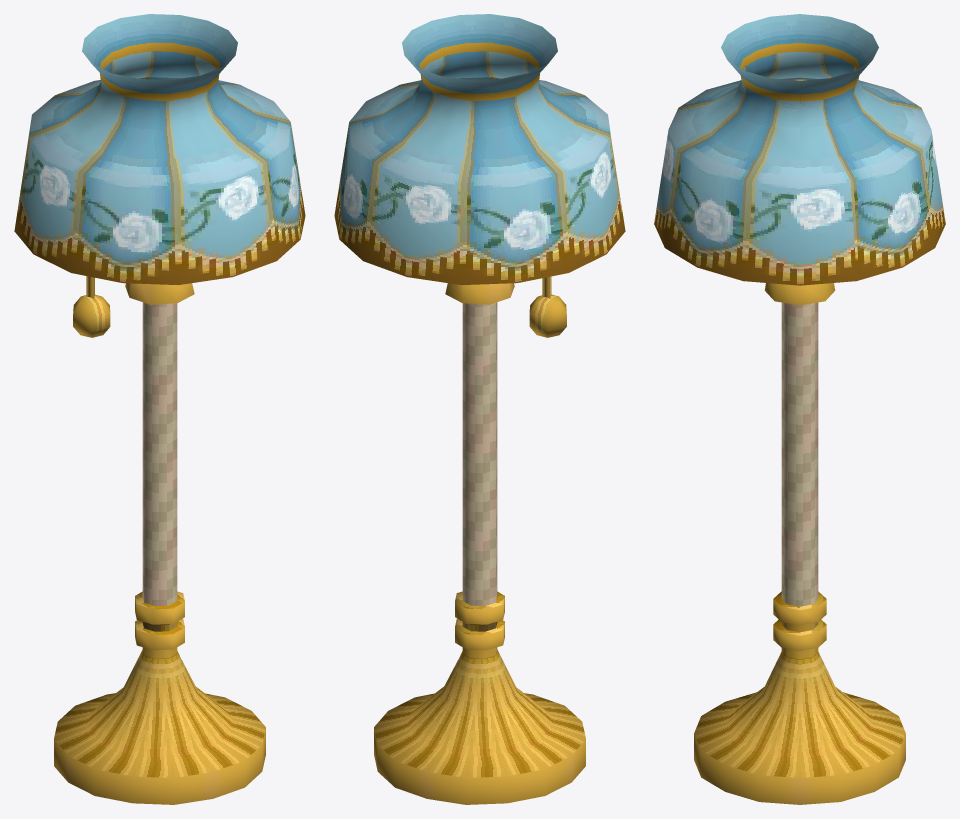
File: int_pri_lamp.dae
The picture shows the model from 3 angles, left to right: view 1: azimuth 30°, elevation 25°; view 2: azimuth 150°, elevation 25°; view 3: azimuth 270°, elevation 25°; orthographic projection.
Visible parts, largest first — view 1: int_pri_lamp; view 2: int_pri_lamp; view 3: int_pri_lamp.
Boxes of the visible parts, x1,y1,x2,y2 form: int_pri_lamp: (14,14,305,804); int_pri_lamp: (334,14,625,804); int_pri_lamp: (654,14,945,804).
Bounding box in the file's own units: 20.67 × 55.7 × 20.67.
Materials: 2 (2 with a texture image).
